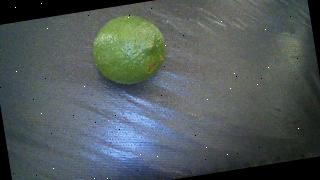DESECHO: (88, 10, 170, 89)
